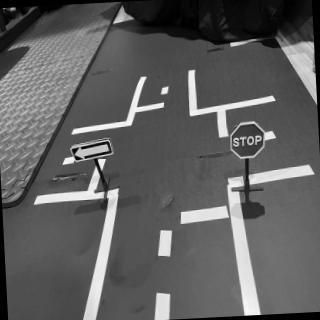sign_oneway_left: (70, 139, 117, 164)
sign_stop: (230, 123, 267, 160)
